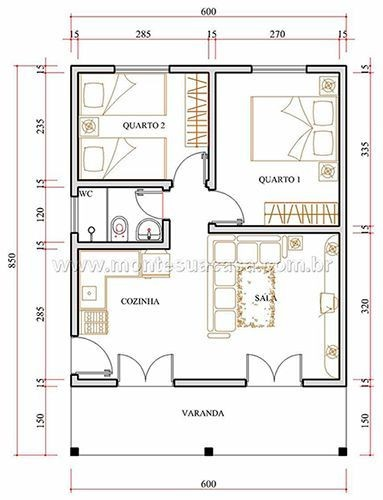door: (115, 345, 182, 391), (240, 346, 302, 394), (133, 182, 184, 222), (173, 146, 215, 194), (204, 186, 246, 232), (66, 341, 114, 379)
room: (209, 229, 348, 394), (209, 69, 346, 232), (69, 243, 208, 388), (70, 65, 215, 191), (70, 185, 207, 256)
wall: (337, 68, 352, 394), (206, 213, 344, 240), (77, 231, 172, 257), (205, 68, 224, 191), (66, 63, 81, 200), (171, 374, 247, 398), (78, 176, 175, 194), (69, 235, 84, 345), (170, 63, 253, 81), (300, 368, 346, 392), (64, 62, 117, 82), (66, 372, 121, 391), (303, 65, 347, 80), (159, 217, 174, 252)
window: (249, 62, 306, 84), (112, 59, 169, 78), (68, 195, 87, 238)
